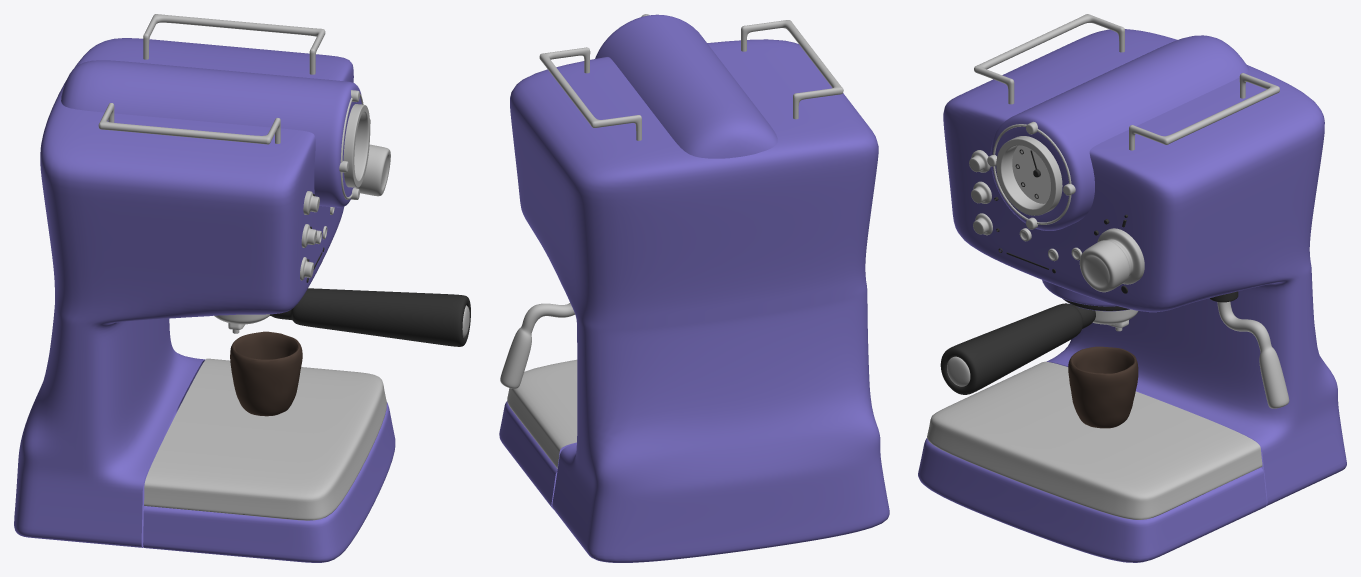
File: kichV4.glb
3 renders of one model, left to right at view 1: azimuth 30°, elevation 25°; view 2: azimuth 150°, elevation 25°; view 3: azimuth 270°, elevation 25°, orthographic. The views are drawn at different scales.
Parts seen in each view (by area): view 1: cfm1, cfm4, cfm20, cfm2, cfm11, cfm41, cfm9, cfm22, cfm19, cfm15; view 2: cfm1, cfm20, cfm4, cfm9, cfm2, cfm42; view 3: cfm1, cfm4, cfm20, cfm2, cfm11, cfm41, cfm9, cfm19, cfm22, cfm42, cfm38, cfm15 (+2 smaller).
Boxes of the visible parts, <box> form: cfm1: <box>14,38,353,547</box>; cfm4: <box>144,358,386,520</box>; cfm20: <box>61,60,361,207</box>; cfm2: <box>143,402,395,562</box>; cfm11: <box>270,288,470,346</box>; cfm41: <box>230,331,302,416</box>; cfm9: <box>98,14,325,144</box>; cfm22: <box>343,104,370,187</box>; cfm19: <box>356,144,390,196</box>; cfm15: <box>300,191,319,280</box>; cfm1: <box>510,39,889,562</box>; cfm20: <box>595,14,777,158</box>; cfm4: <box>507,359,577,468</box>; cfm9: <box>539,20,843,140</box>; cfm2: <box>499,401,576,509</box>; cfm42: <box>500,303,575,388</box>; cfm1: <box>943,29,1346,506</box>; cfm4: <box>927,361,1262,519</box>; cfm20: <box>990,35,1249,230</box>; cfm2: <box>918,438,1266,562</box>; cfm11: <box>940,303,1095,394</box>; cfm41: <box>1068,346,1138,428</box>; cfm9: <box>974,14,1279,150</box>; cfm19: <box>1079,228,1144,292</box>; cfm22: <box>996,136,1062,215</box>; cfm42: <box>1217,301,1289,408</box>; cfm38: <box>1012,145,1050,203</box>; cfm15: <box>969,150,992,235</box>.
Bounding box in the file's own units: 0.3561 × 0.3719 × 0.3558.
